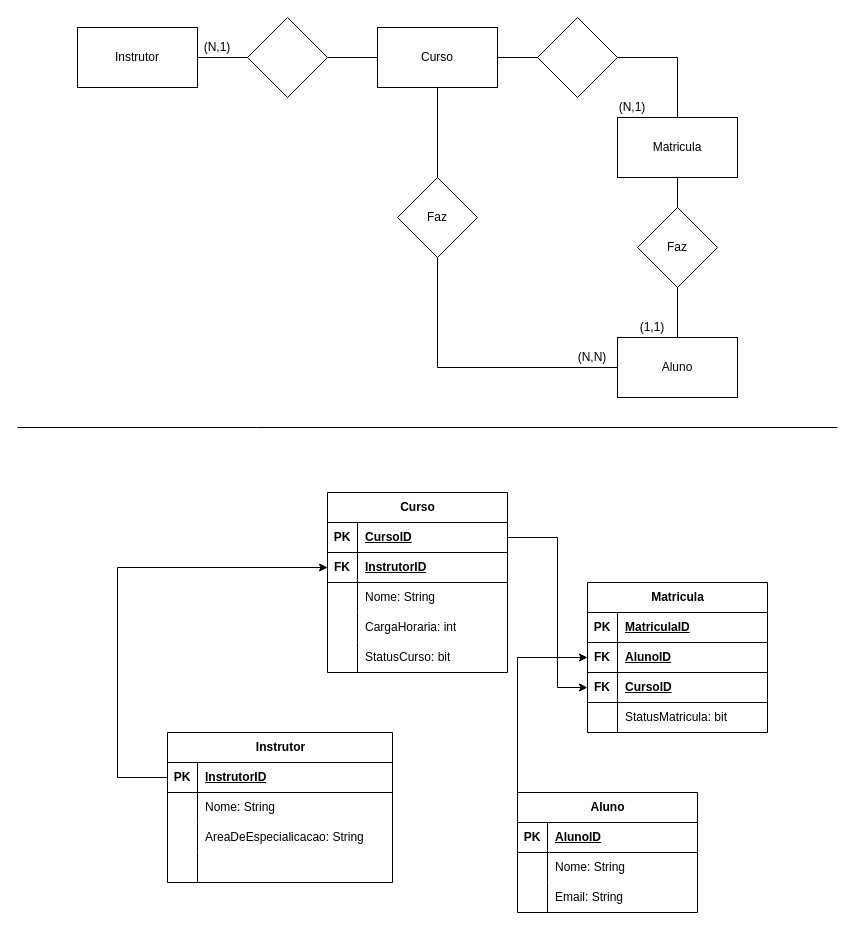
This 856x930 diagram has some shape labels left out. Here are the shapes that lost their labels. From the top down, the box of each, then its label:
(246, 16, 328, 98): Da
(536, 16, 618, 98): Permite
